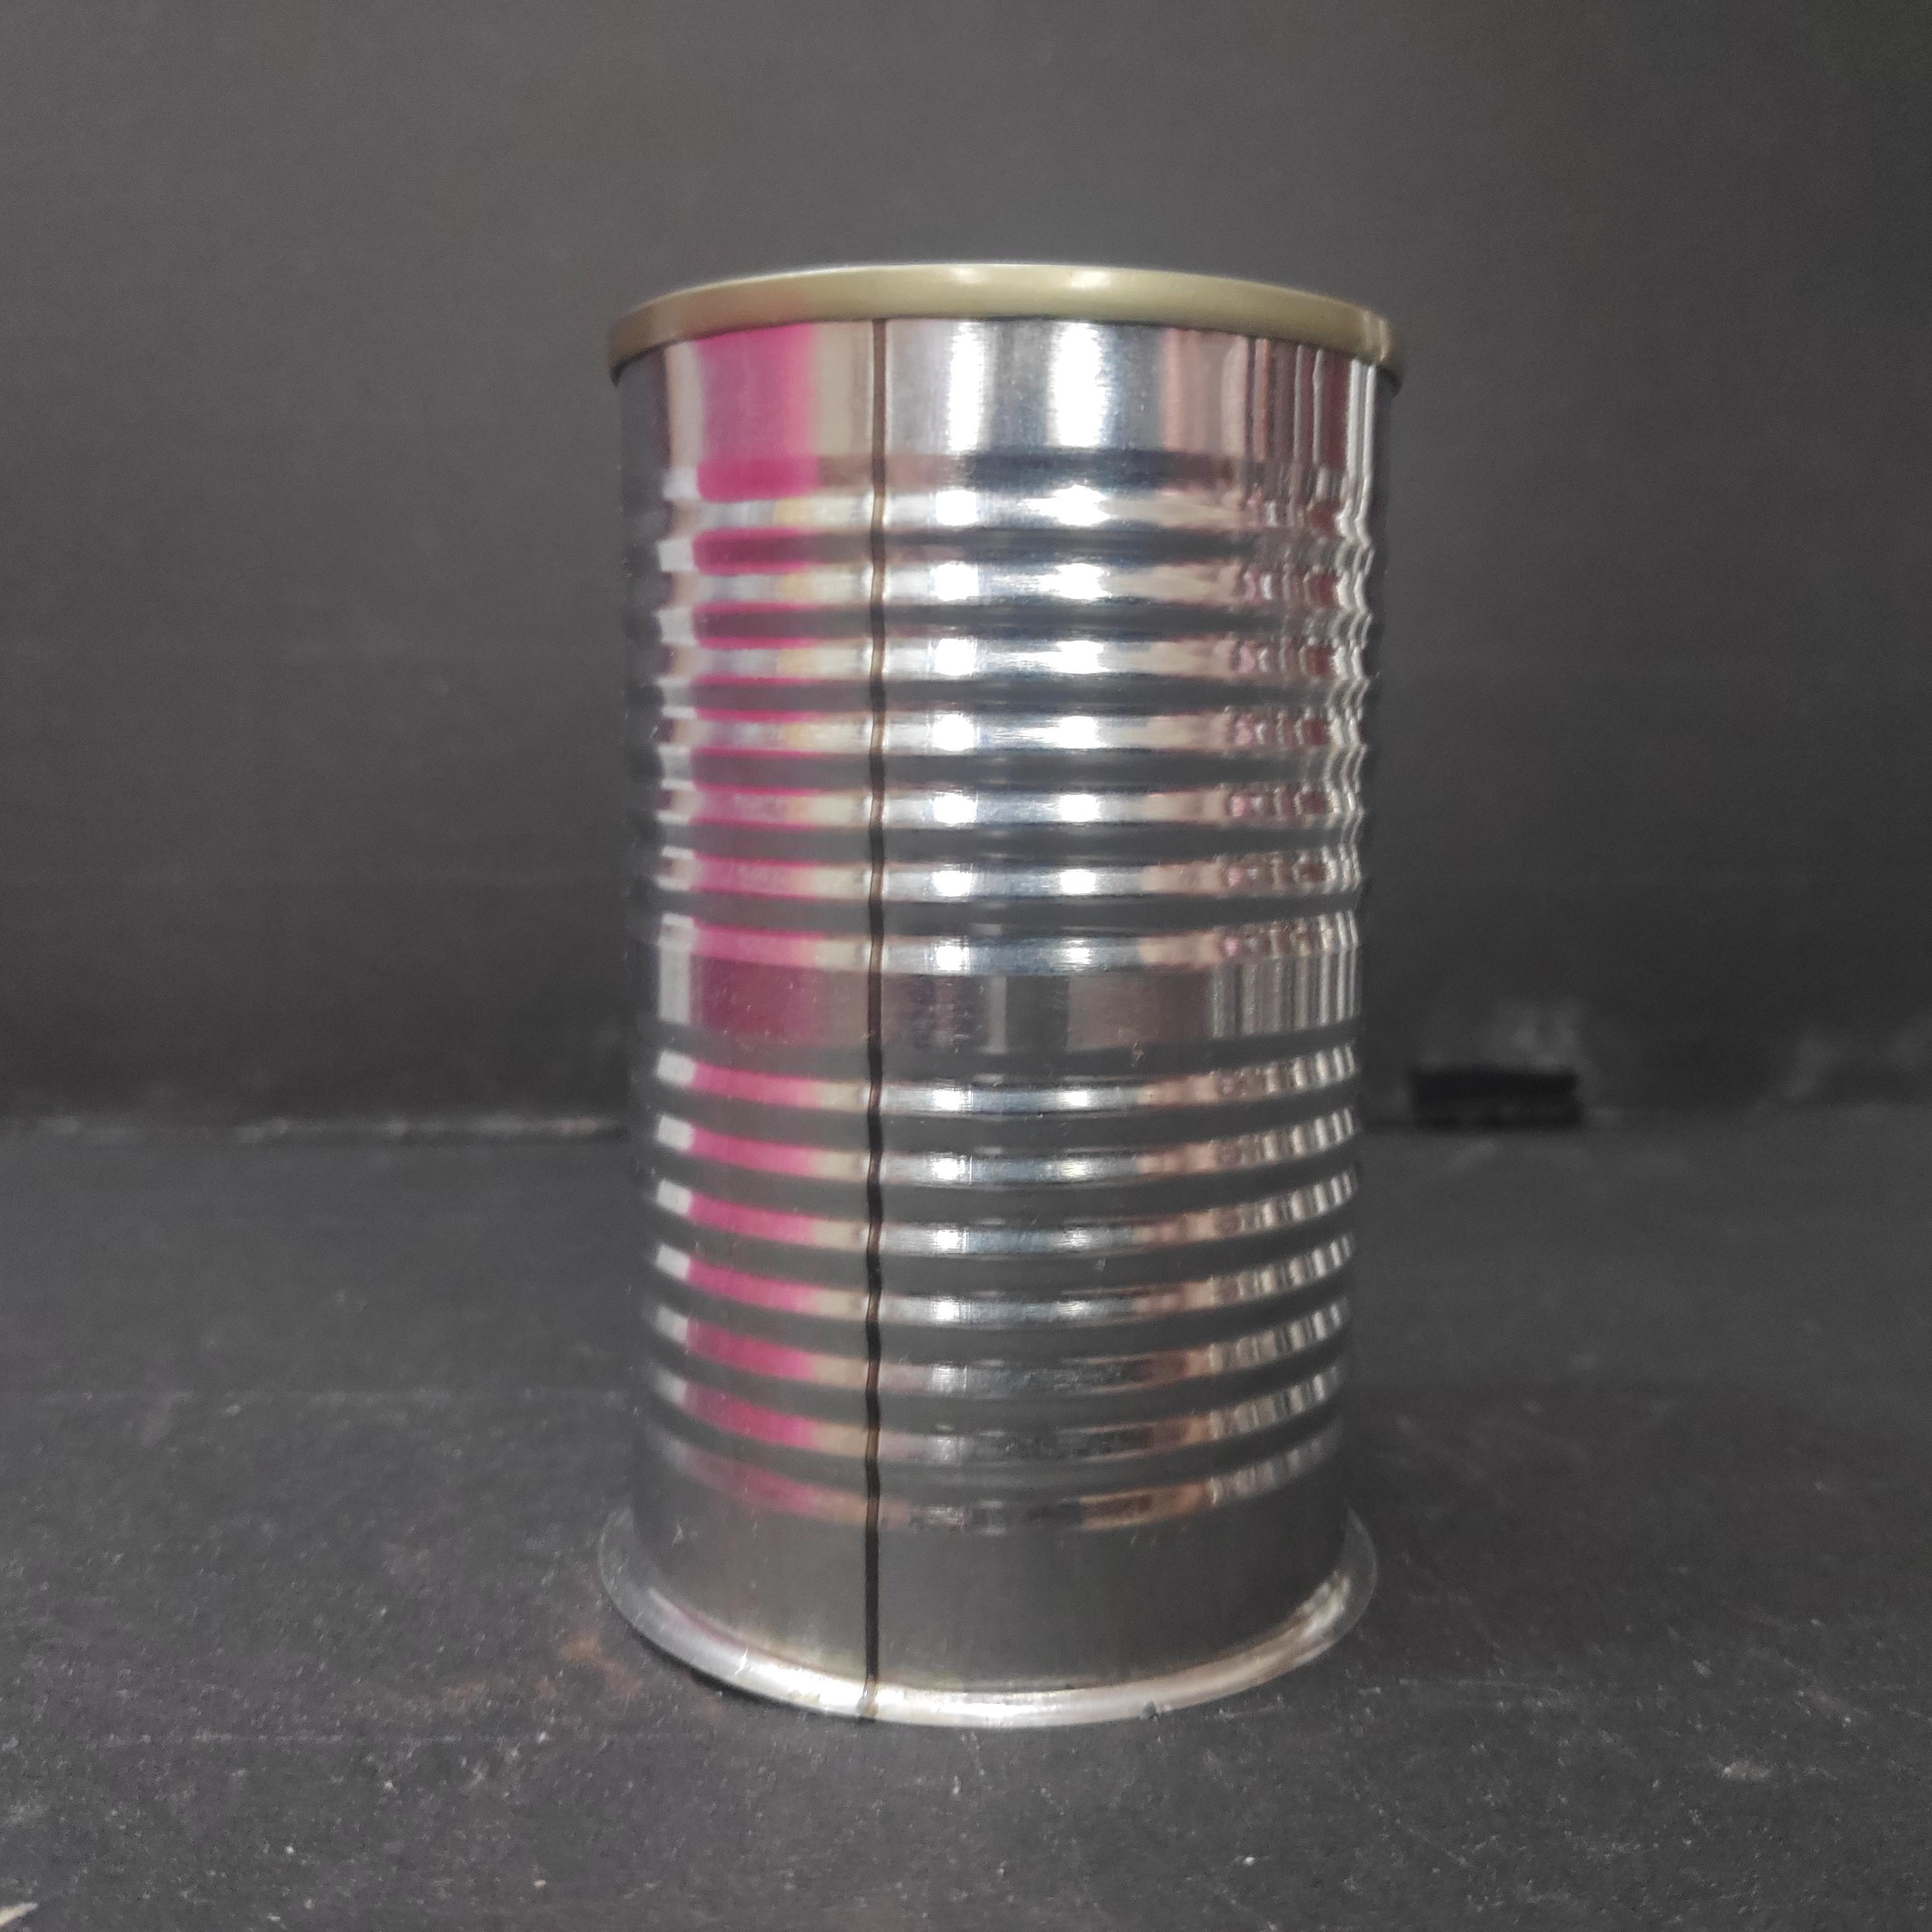No defect: (594, 253, 1401, 1737)
